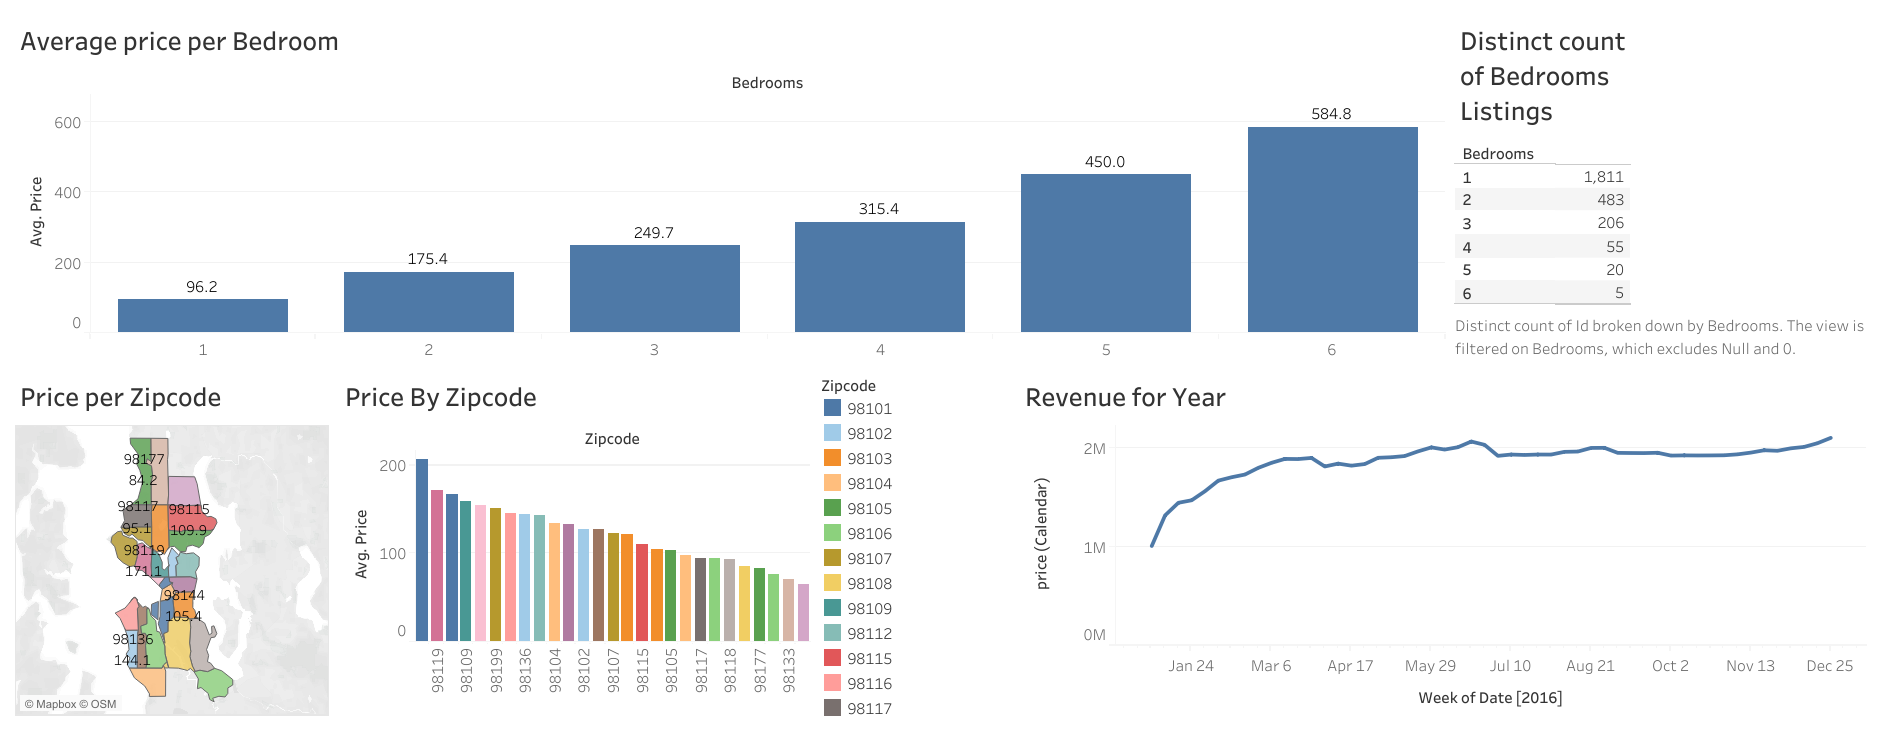

The dashboard page shown, as its layout file describes it:
{"tool":"tableau","page":{"name":"Dashboard 1","canvas":[1000,1000],"units":"permille","ordinal":0},"visuals":[{"type":"worksheet","title":"Sheet 4","mark":"Automatic","rows":["price"],"cols":["bedrooms"],"box":[4.8,10,766.4,490]},{"type":"worksheet","title":"Sheet 5","mark":"Automatic","rows":["bedrooms"],"box":[771.3,10,223.9,490]},{"type":"worksheet","title":"Sheet 2","mark":"Multipolygon","box":[4.8,500,177.1,490]},{"type":"worksheet","title":"Sheet 1","mark":"Automatic","rows":["price"],"cols":["zipcode"],"box":[181.9,500,261.1,490]},{"type":"legend","title":"Sheet 1","param":"[federated.09ley231smsqvh1625z4y0ln1kxk].[none:zipcode:ok]","box":[443,500,96.6,490]},{"type":"worksheet","title":"Sheet 3","mark":"Automatic","rows":["price (Calendar)"],"cols":["date"],"box":[539.5,500,455.6,490]}]}

Visuals, with their boxes on the dashboard's canvas, which has no fixed pixel size, in thousandths of its width and height (x1, y1, x2, y2). These are canvas units, not pixel positions in the 1880x730 screenshot, which may show the page scaled, cropped or inside an application window:
"Sheet 4" worksheet: bbox=[5, 10, 771, 500]
"Sheet 5" worksheet: bbox=[771, 10, 995, 500]
"Sheet 2" worksheet (Multipolygon marks): bbox=[5, 500, 182, 990]
"Sheet 1" worksheet: bbox=[182, 500, 443, 990]
"Sheet 1" legend: bbox=[443, 500, 540, 990]
"Sheet 3" worksheet: bbox=[540, 500, 995, 990]
